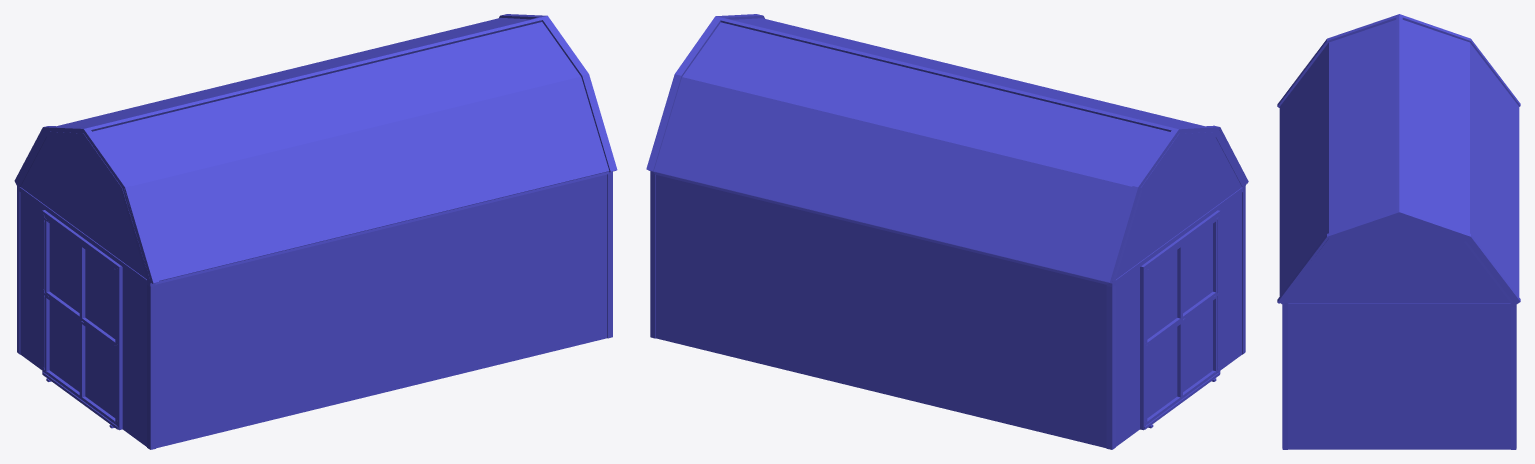
File: barn20.obj
3 renders of one model, left to right at view 1: azimuth 30°, elevation 25°; view 2: azimuth 150°, elevation 25°; view 3: azimuth 270°, elevation 25°, orthographic. The views are drawn at different scales.
Visible parts, largest first — view 1: Siding, Roof, Box009, Object008, Trim; view 2: Siding, Roof, Box009, Object008, Trim; view 3: Roof, Siding, Object008, Box009.
Boxes of the visible parts, x1,y1,x2,y2 form: Siding: [20, 136, 607, 448]; Roof: [15, 18, 609, 283]; Box009: [17, 131, 612, 449]; Object008: [14, 14, 617, 283]; Trim: [42, 210, 122, 430]; Siding: [656, 137, 1241, 448]; Roof: [648, 18, 1247, 283]; Box009: [650, 132, 1245, 449]; Object008: [646, 14, 1248, 282]; Trim: [1140, 210, 1220, 430]; Roof: [1279, 20, 1519, 304]; Siding: [1288, 220, 1510, 449]; Object008: [1277, 14, 1520, 303]; Box009: [1282, 219, 1516, 449].
Bounding box in the file's own units: 245 × 137 × 126.
